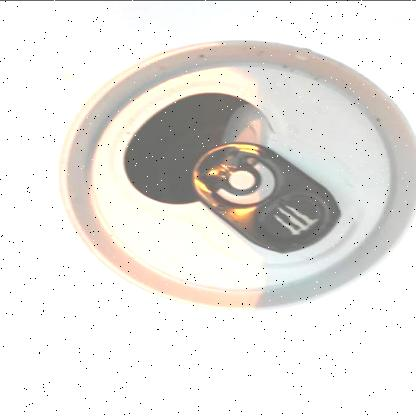Can: (58, 38, 416, 312)
